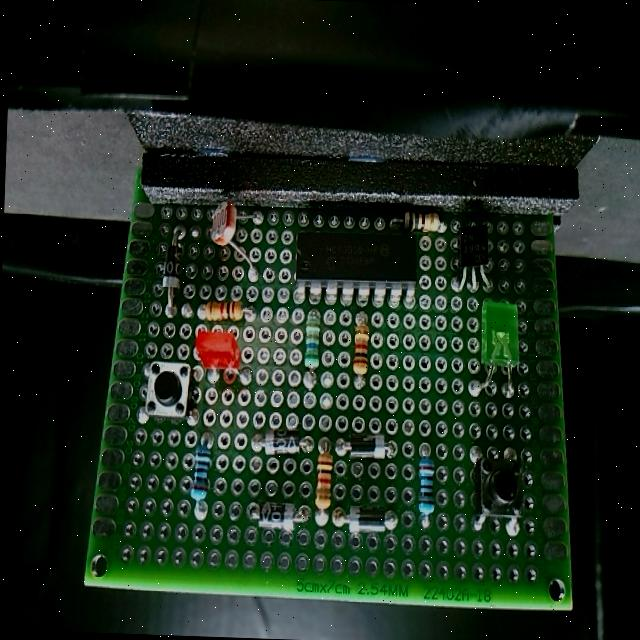IC: (288, 221, 428, 297)
cds: (214, 195, 241, 252)
diode: (248, 499, 304, 542), (341, 428, 391, 464), (340, 505, 396, 536), (154, 242, 184, 295), (256, 429, 305, 456)
led: (472, 293, 524, 377), (195, 326, 239, 380)
resistor: (186, 434, 217, 509), (412, 450, 438, 528), (197, 294, 250, 332), (300, 308, 326, 382), (400, 199, 449, 236), (312, 444, 333, 520), (352, 318, 371, 383)
switch: (140, 354, 194, 424), (472, 452, 529, 518)
transistor: (453, 221, 496, 273)
